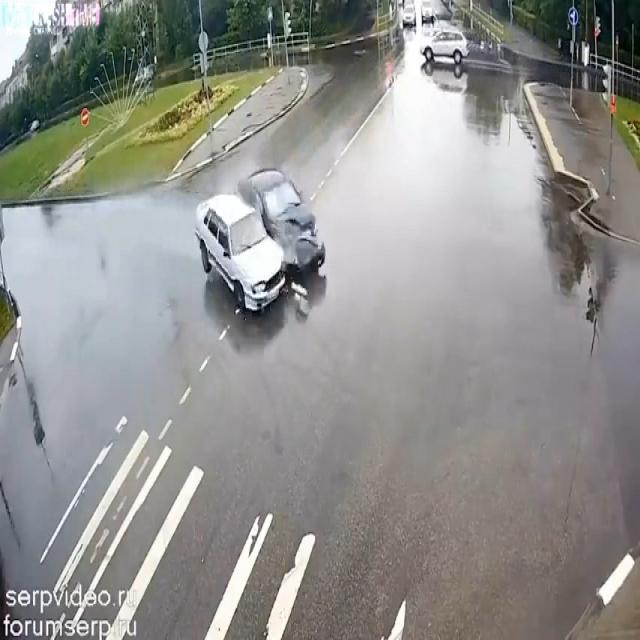Accident: (200, 153, 328, 323)
